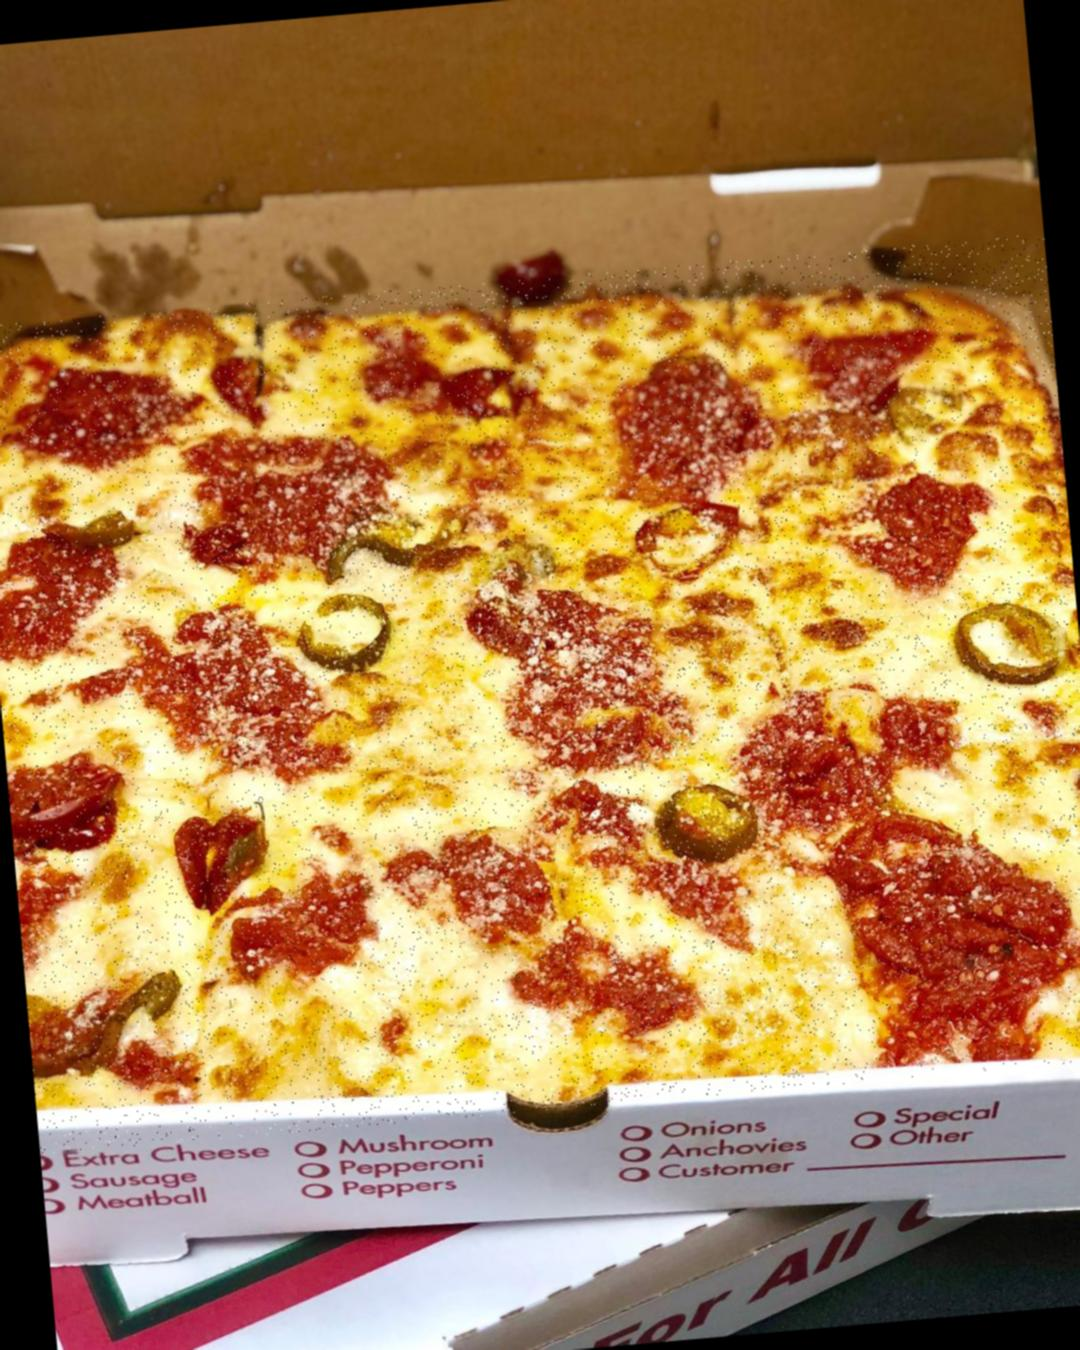Pepperoni: (804, 785, 1080, 1077), (454, 564, 713, 787), (110, 582, 353, 798), (597, 339, 784, 600), (723, 662, 973, 846), (551, 778, 748, 973), (484, 907, 713, 1073), (176, 415, 400, 583), (376, 814, 577, 959), (827, 455, 1007, 611), (210, 851, 393, 1004), (6, 348, 206, 487), (349, 320, 527, 440), (776, 316, 947, 438), (0, 518, 125, 671), (6, 745, 130, 861), (163, 800, 282, 919)
Peppers: (63, 968, 194, 1086), (943, 590, 1079, 702), (288, 580, 399, 688), (650, 780, 767, 871), (876, 374, 968, 453), (316, 527, 419, 591), (46, 506, 149, 560), (217, 802, 279, 890)
Pizza: (0, 234, 1080, 1155)
